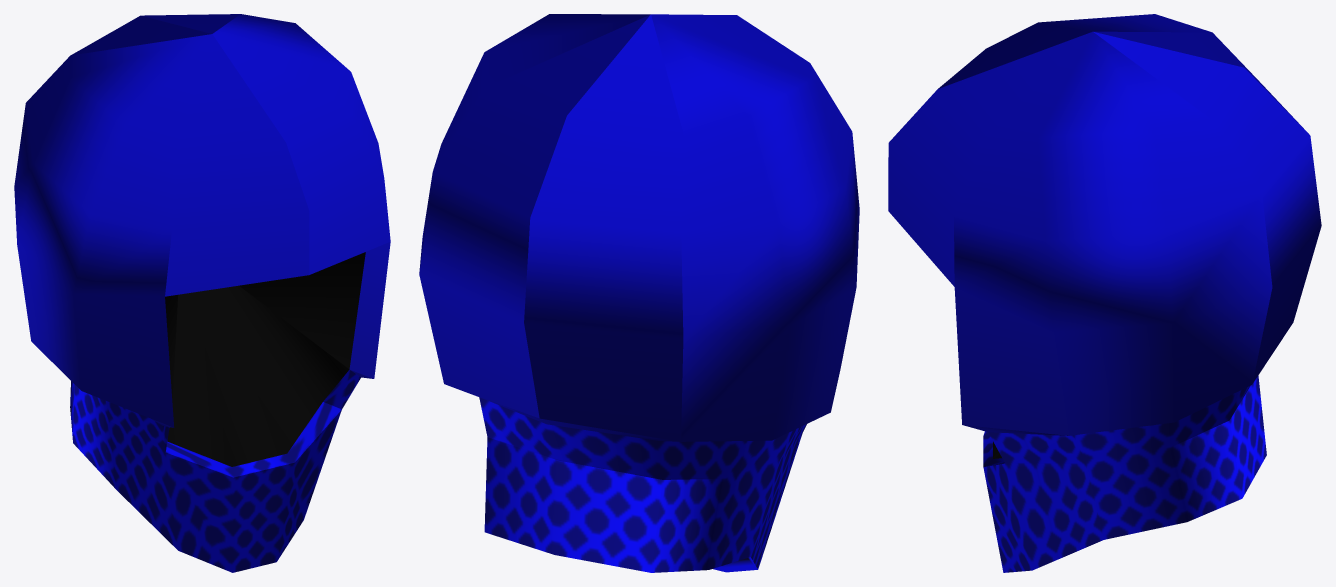
3 views of the same model, side by side, from view 1: azimuth 30°, elevation 25°; view 2: azimuth 150°, elevation 25°; view 3: azimuth 270°, elevation 25° (orthographic). The views are drawn at different scales.
Parts seen in each view (by area): view 1: SkullCap; view 2: SkullCap; view 3: SkullCap.
Part boxes in pixels (box(x1,y1,x2,y2)): SkullCap: box(14, 14, 390, 572); SkullCap: box(419, 14, 859, 572); SkullCap: box(888, 14, 1321, 572).
Bounding box in the file's own units: 0.2391 × 0.3653 × 0.2707.
1 material, 1 textured.
